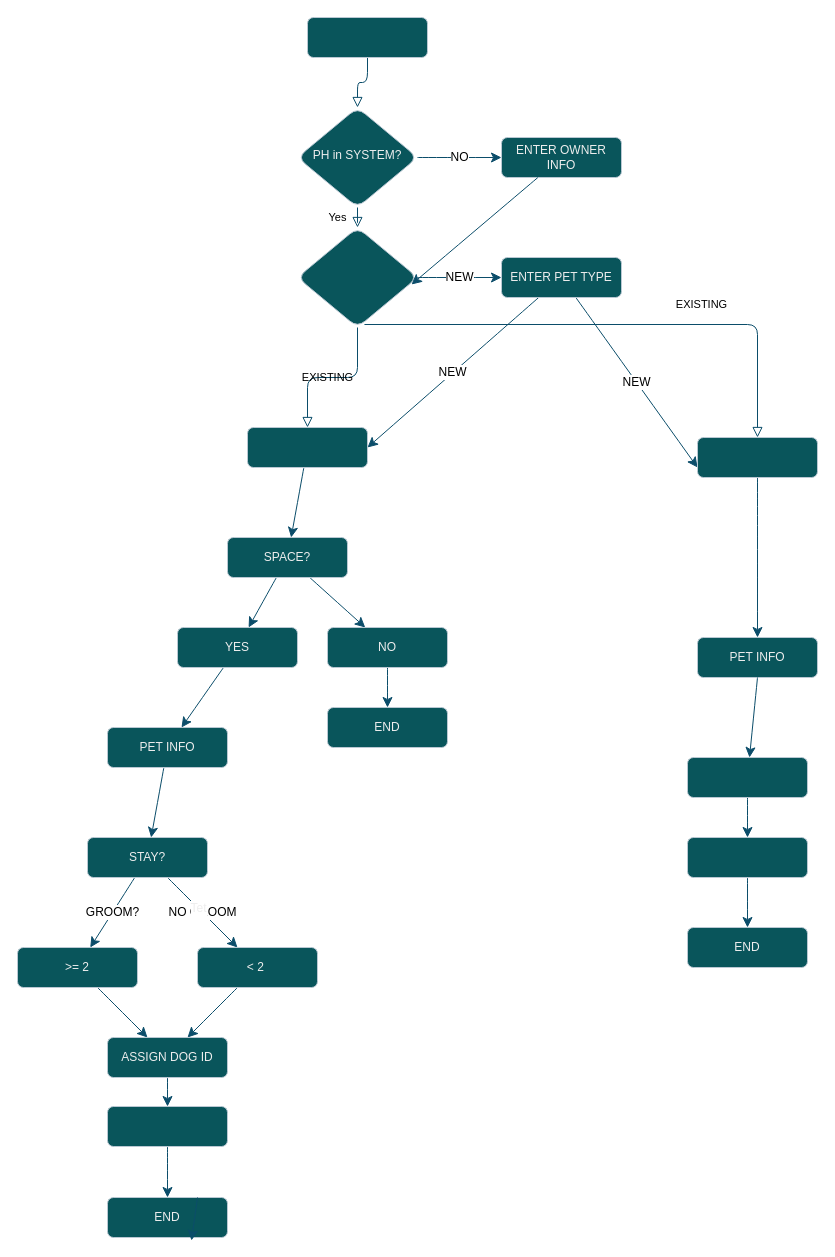
This 835x1257 diagram has some shape labels left out. Each missing label, with the box of its shape:
ASSIGN CAT ID: (686, 756, 808, 798)
CAT: (696, 436, 818, 478)
DECREMENT CAT SPACE: (686, 836, 808, 878)
DECREMENT DOG SPACE: (106, 1106, 228, 1146)
DOG: (246, 426, 368, 468)
START: (306, 16, 428, 58)
Who are we checking in?: (296, 226, 418, 328)
